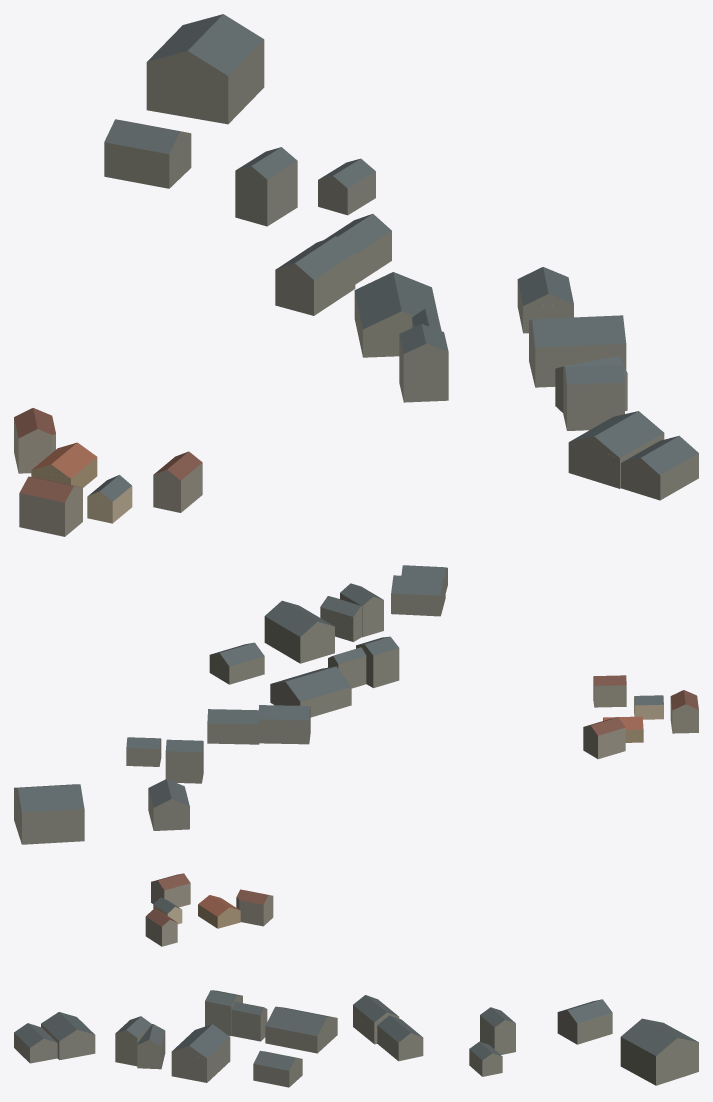
The picture shows the model from 3 angles, top to bottom: view 1: azimuth 30°, elevation 25°; view 2: azimuth 150°, elevation 25°; view 3: azimuth 270°, elevation 25°; orthographic projection. The views are drawn at different scales.
Visible parts, largest first — view 1: C_5_3; view 2: C_5_3; view 3: C_5_3.
Boxes of the visible parts, <box> form: C_5_3: <box>14,14,698,536</box>; C_5_3: <box>14,565,698,844</box>; C_5_3: <box>14,873,698,1087</box>.
Bounding box in the file's own units: 164 × 16.22 × 247.
